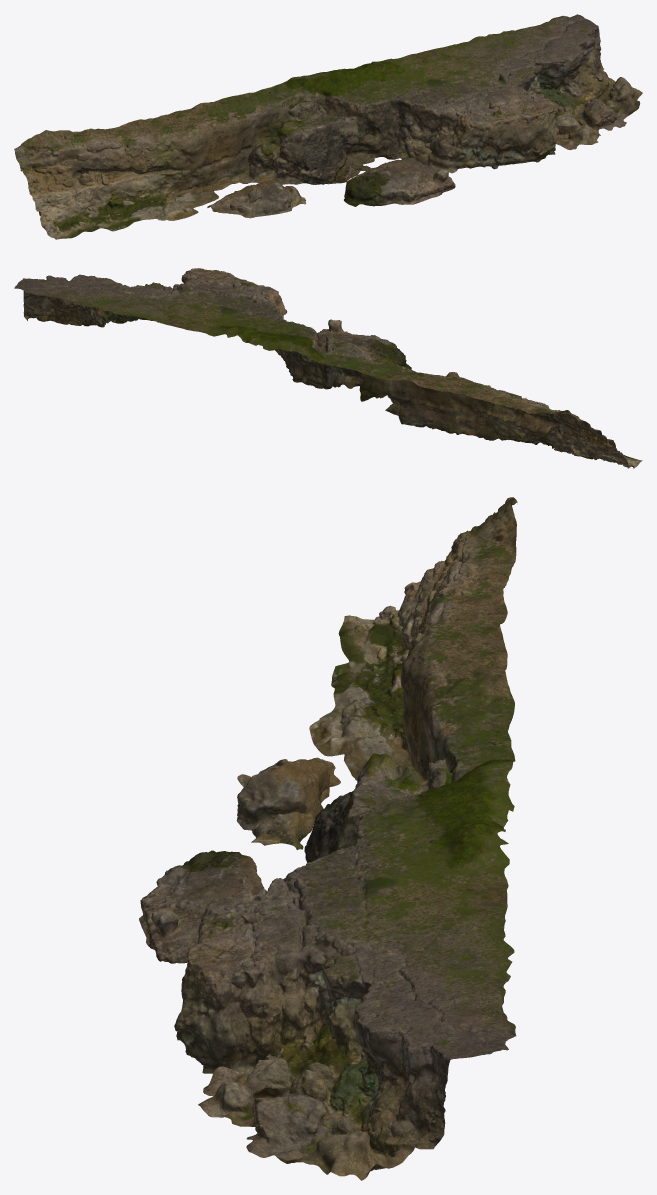
Rendered from coastal_cliff_04_4k.fbx.
3 renders of one model, top to bottom at view 1: azimuth 30°, elevation 25°; view 2: azimuth 150°, elevation 25°; view 3: azimuth 270°, elevation 25°, orthographic. The views are drawn at different scales.
Parts seen in each view (by area): view 1: coastal_cliff_04_LOD3; view 2: coastal_cliff_04_LOD3; view 3: coastal_cliff_04_LOD3.
Boxes of the visible parts, box(x1,y1,x2,y2) form: coastal_cliff_04_LOD3: box(14, 14, 642, 239); coastal_cliff_04_LOD3: box(14, 268, 642, 468); coastal_cliff_04_LOD3: box(139, 497, 517, 1180).
Size of the model in its own units: 8677 by 1100 by 2425.
1 material, 1 textured.
